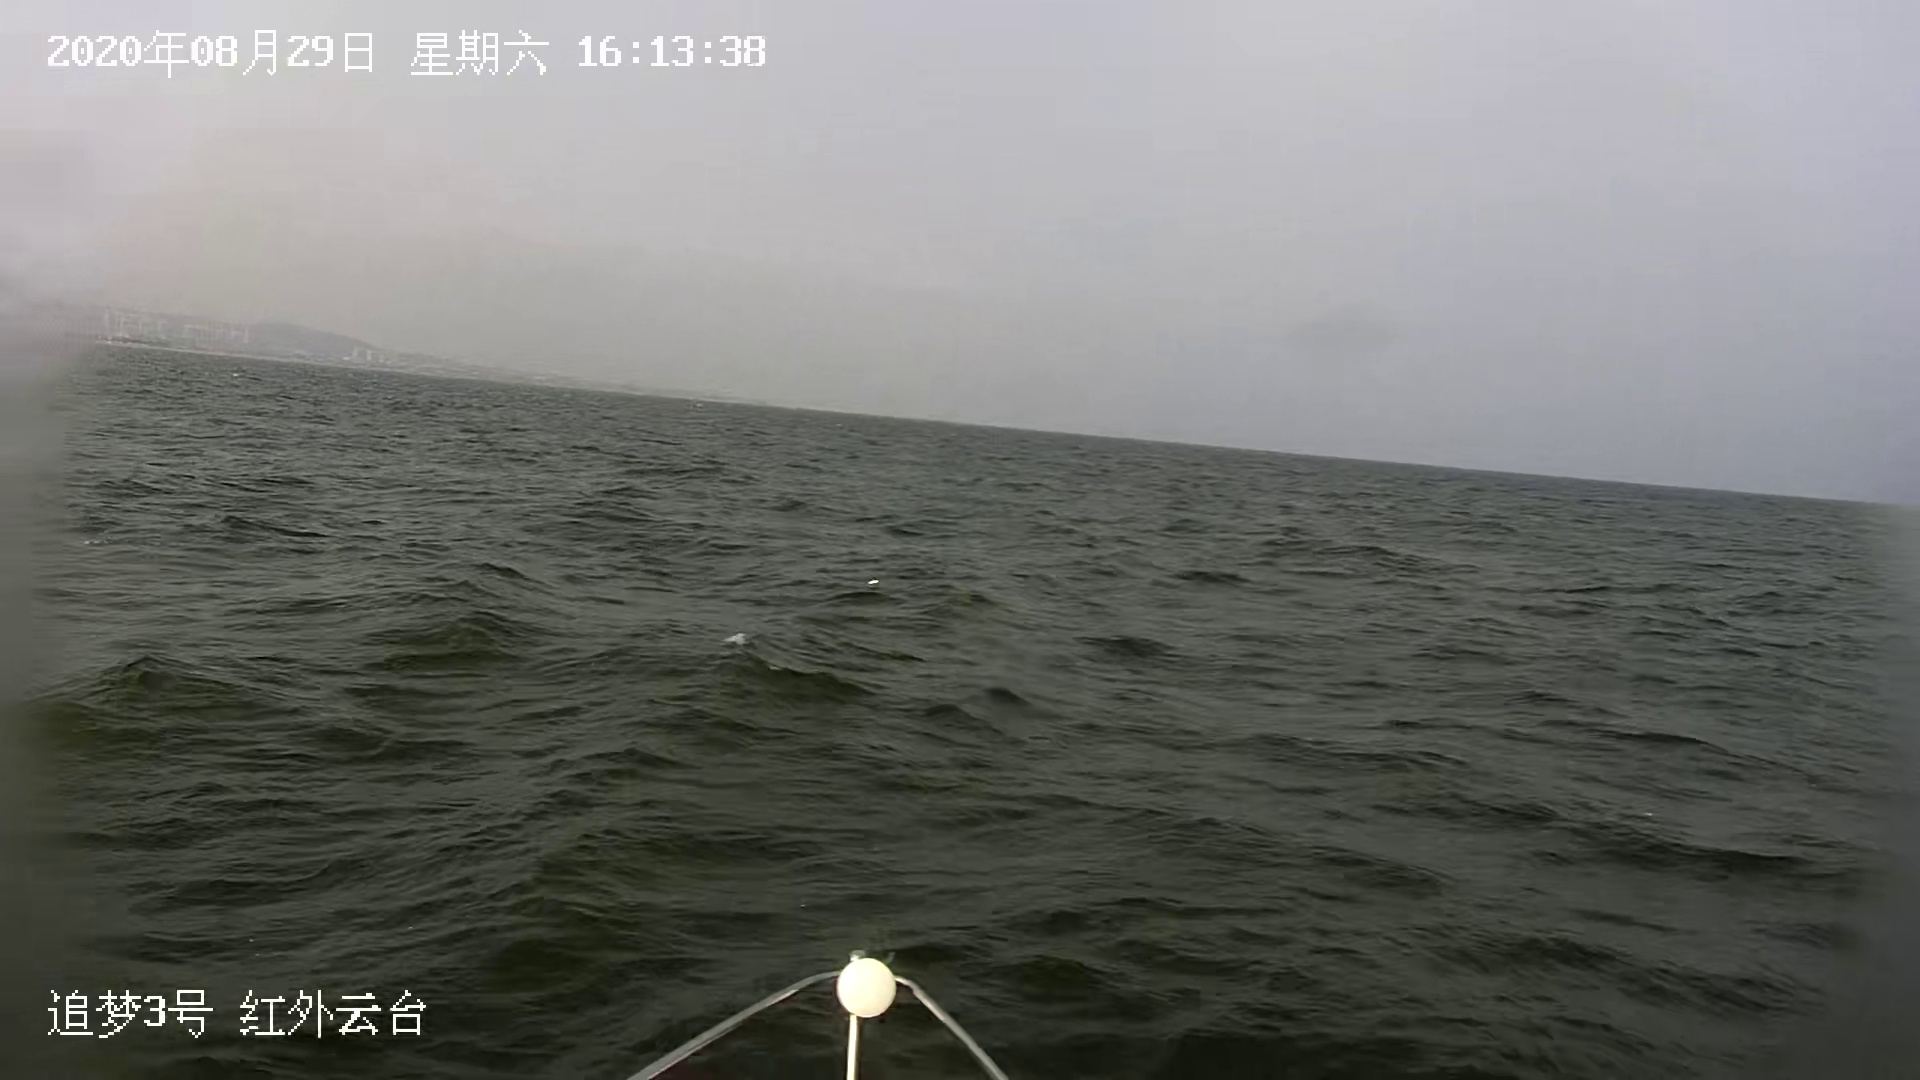coast: (21, 297, 665, 392)
